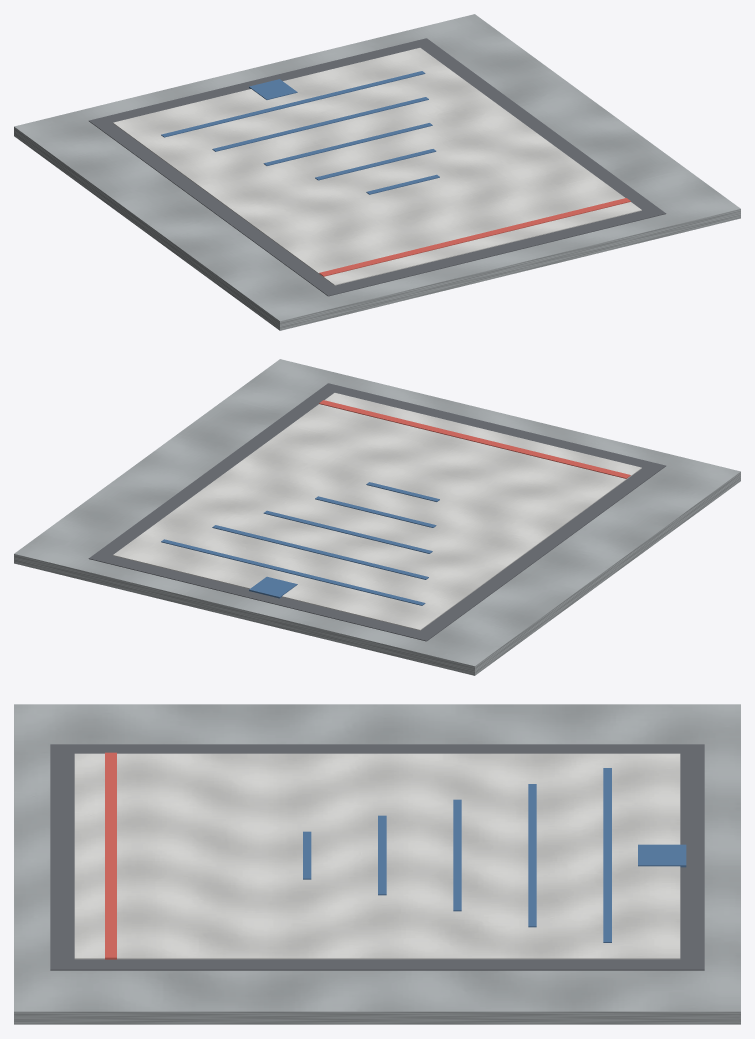
Rendered from cruise-ship-deck-and-lounge-cruise-ship-deck-and-loung-68bf2e27__38406.glb.
The picture shows the model from 3 angles, top to bottom: view 1: azimuth 30°, elevation 25°; view 2: azimuth 150°, elevation 25°; view 3: azimuth 270°, elevation 25°; orthographic projection. The views are drawn at different scales.
Visible parts, largest first — view 1: cruise-ship-deck-and-lounge-shuffleboard-court-plate; view 2: cruise-ship-deck-and-lounge-shuffleboard-court-plate; view 3: cruise-ship-deck-and-lounge-shuffleboard-court-plate.
Part boxes in pixels (left/top/right/bottom): cruise-ship-deck-and-lounge-shuffleboard-court-plate: left=14, top=14, right=740, bottom=330; cruise-ship-deck-and-lounge-shuffleboard-court-plate: left=14, top=359, right=740, bottom=675; cruise-ship-deck-and-lounge-shuffleboard-court-plate: left=14, top=704, right=740, bottom=1024.
Bounding box in the file's own units: 6 × 0.1461 × 6.
5 materials, 2 textured.
